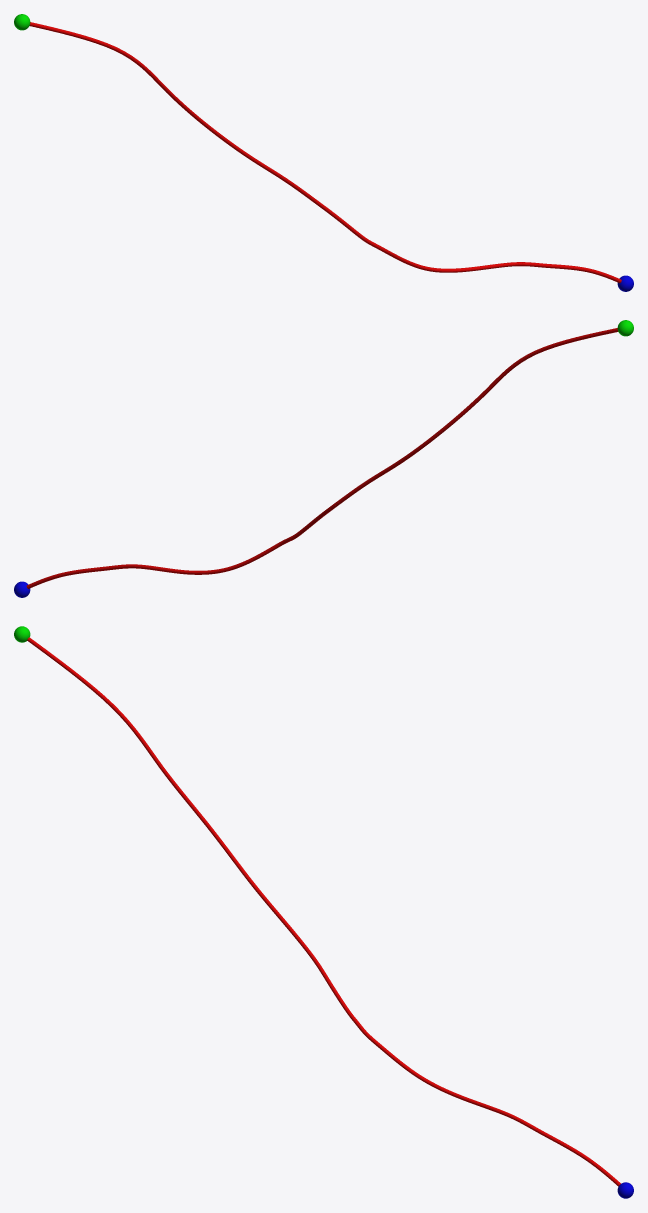
File: paths.obj
3 views of the same model, one above another, from view 1: azimuth 30°, elevation 25°; view 2: azimuth 150°, elevation 25°; view 3: azimuth 330°, elevation 25° (orthographic).
Bounding box in the file's own units: 1.74 × 1.14 × 0.066.
